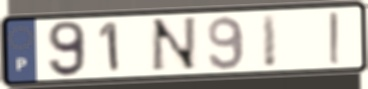1: (95, 20, 121, 74)
9: (45, 19, 89, 79), (205, 14, 246, 71)
I: (259, 12, 280, 70), (327, 10, 344, 67)
N: (147, 15, 201, 75)
